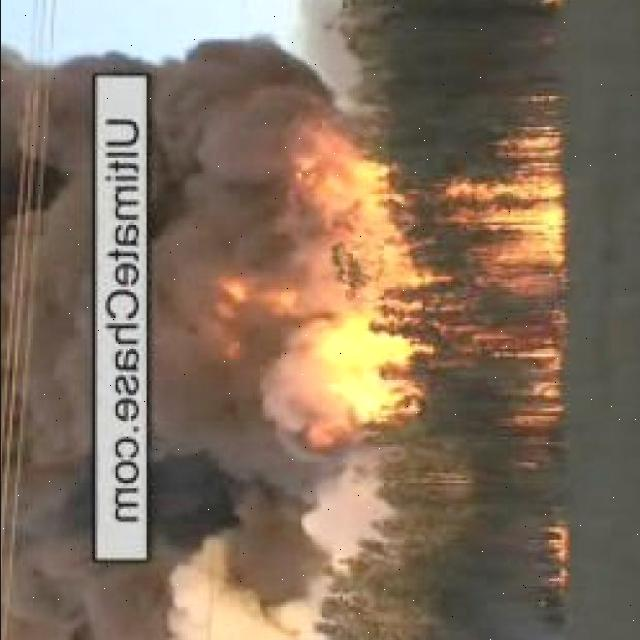fire: (219, 141, 421, 439), (445, 126, 567, 442), (540, 524, 569, 593)
